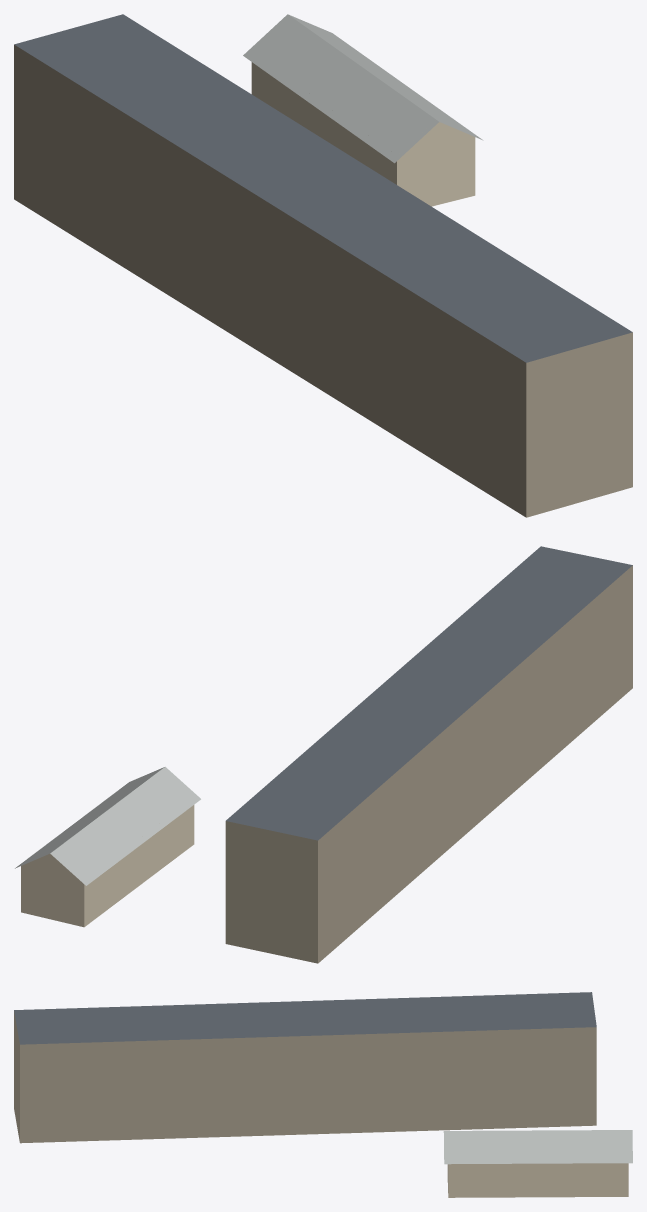
The picture shows the model from 3 angles, top to bottom: view 1: azimuth 30°, elevation 25°; view 2: azimuth 150°, elevation 25°; view 3: azimuth 270°, elevation 25°; orthographic projection. The views are drawn at different scales.
Visible parts, largest first — view 1: tuile; view 2: tuile; view 3: tuile.
Boxes of the visible parts, x1,y1,x2,y2 form: tuile: [14, 14, 632, 517]; tuile: [15, 546, 632, 963]; tuile: [14, 992, 632, 1197].
Size of the model in its own units: 21.95 by 9.18 by 52.25.
